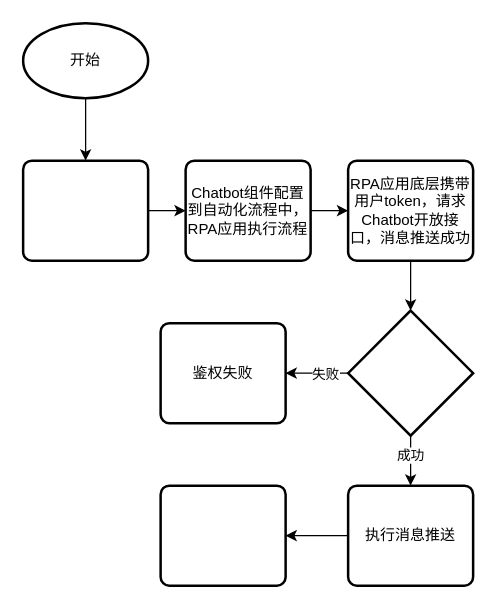
Some shapes in this 495 by 608 pixel diagram are drawn without their labels. The box of each missing label's shape, as (x1, y1, x2, y2) in pixels:
RPA用户通过Chatbot组件配置推送消息所需参数: (21, 159, 149, 261)
token鉴权: (346, 309, 474, 436)
返回推送结果: (159, 484, 286, 586)
